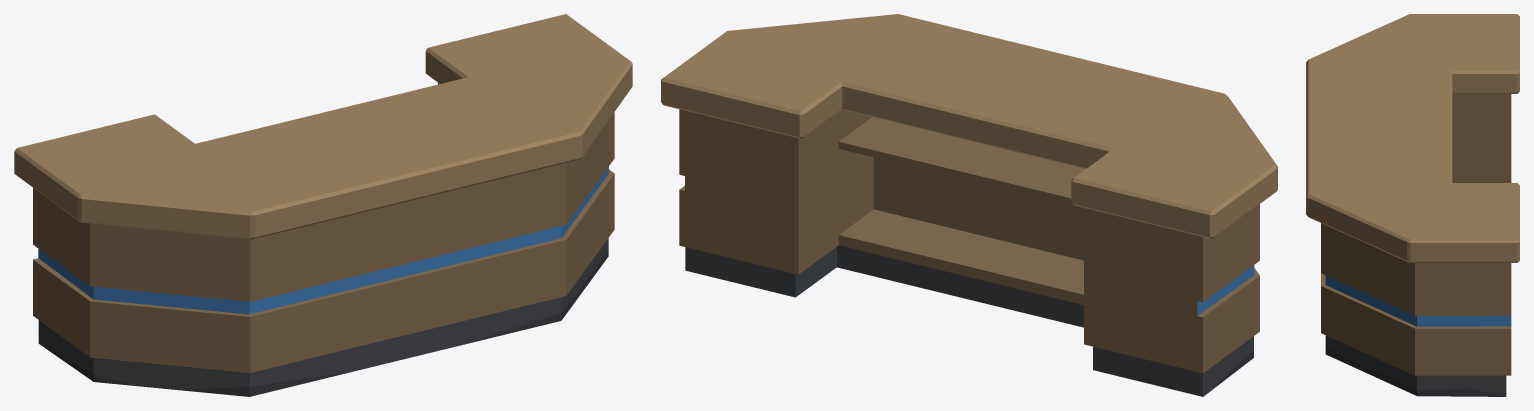
The model's file is desk.glb.
The picture shows the model from 3 angles, left to right: view 1: azimuth 30°, elevation 25°; view 2: azimuth 150°, elevation 25°; view 3: azimuth 270°, elevation 25°; orthographic projection. The views are drawn at different scales.
Visible parts, largest first — view 1: SM_Prop_Shop_Desk_01; view 2: SM_Prop_Shop_Desk_01; view 3: SM_Prop_Shop_Desk_01.
Boxes of the visible parts, bbox=[...] form: SM_Prop_Shop_Desk_01: bbox=[14, 14, 632, 396]; SM_Prop_Shop_Desk_01: bbox=[661, 14, 1277, 396]; SM_Prop_Shop_Desk_01: bbox=[1306, 14, 1519, 396].
Bounding box in the file's own units: 3.02 × 1.01 × 1.2.
Materials: 1 (1 with a texture image).
